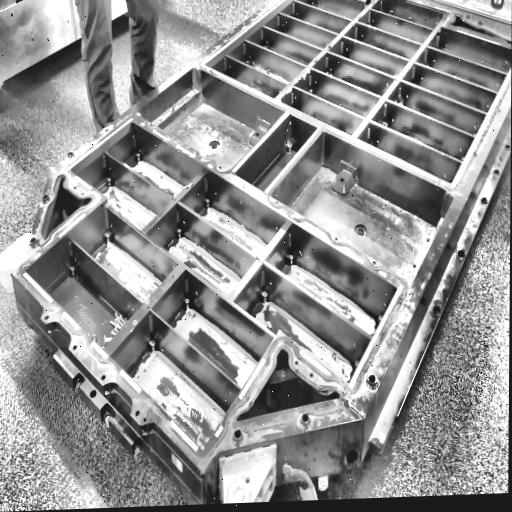b_casing: (0, 0, 512, 505)
